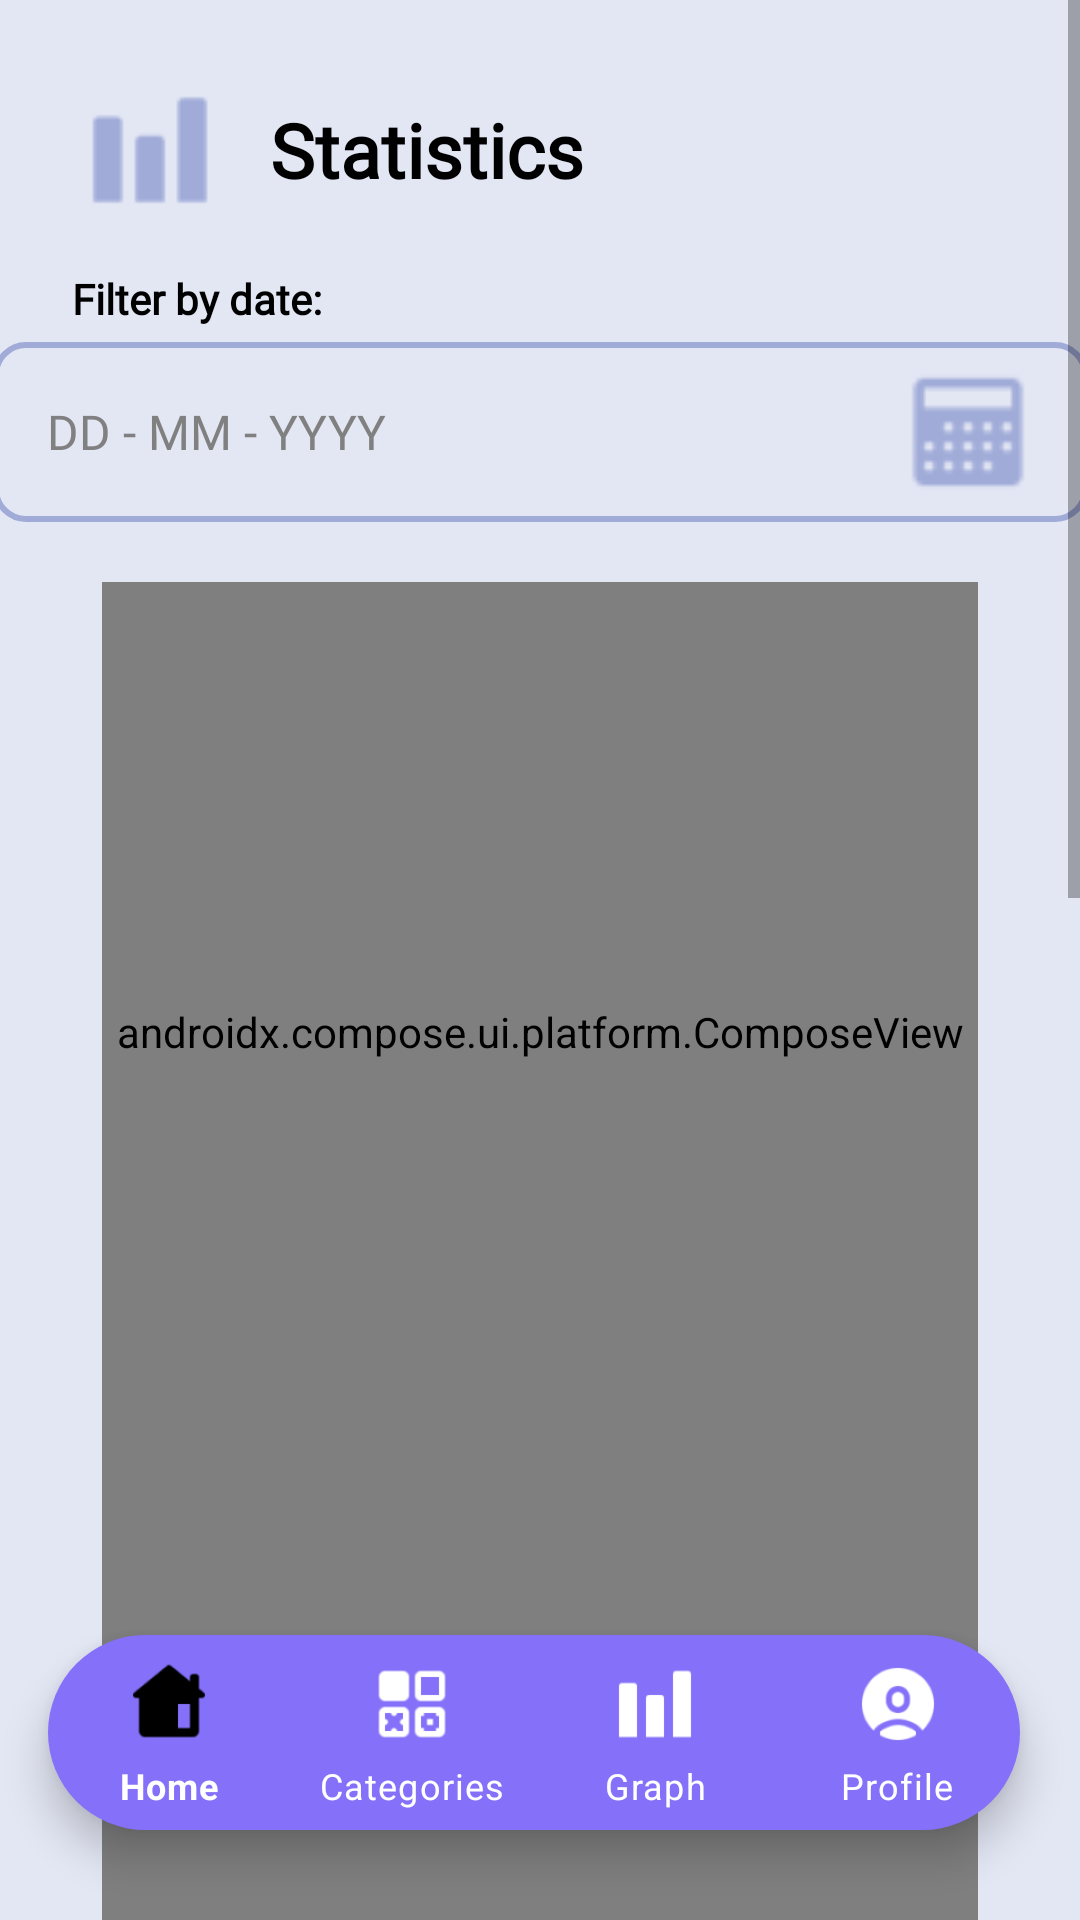

Named icons in this screenshot (1080 x 1920) and their bounding boxes, (x1, y1, x2, y2):
calender: (913, 378, 1023, 486)
